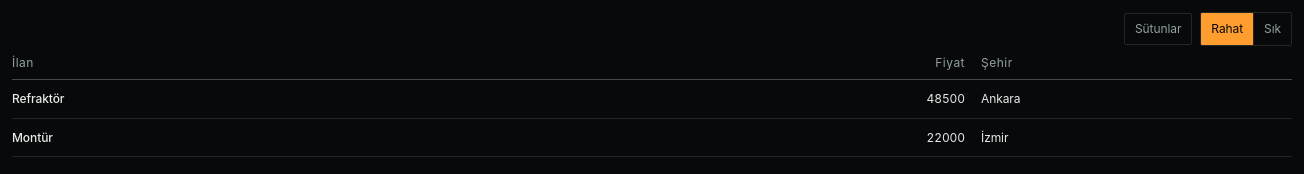
Test: DataTable — sütun ve yoğunluk › yoğunluk seçimi işaretleniyor
Click the button "Sık" at point(1272, 29), box [1253,13,1291,45]
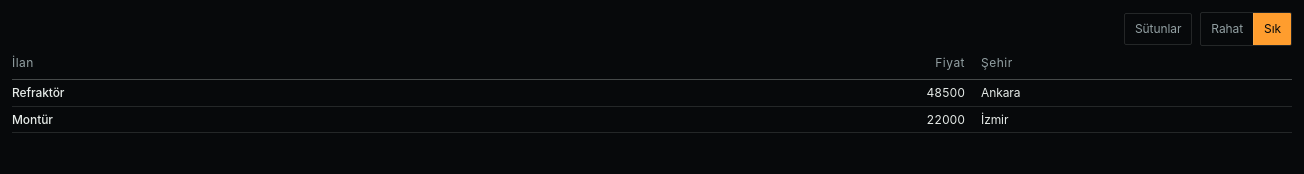
Check: the button "Sık" is pressed, box [1253,13,1291,45]
